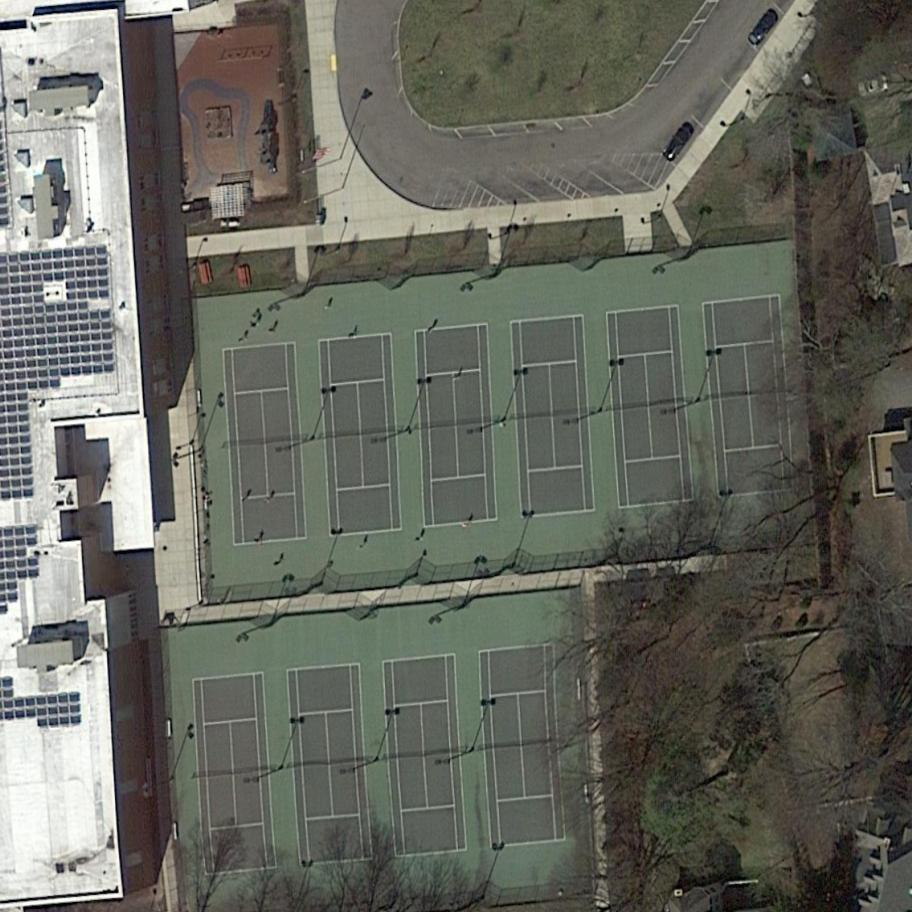small-vehicle: (741, 3, 785, 51), (659, 117, 700, 164), (854, 71, 893, 99)
